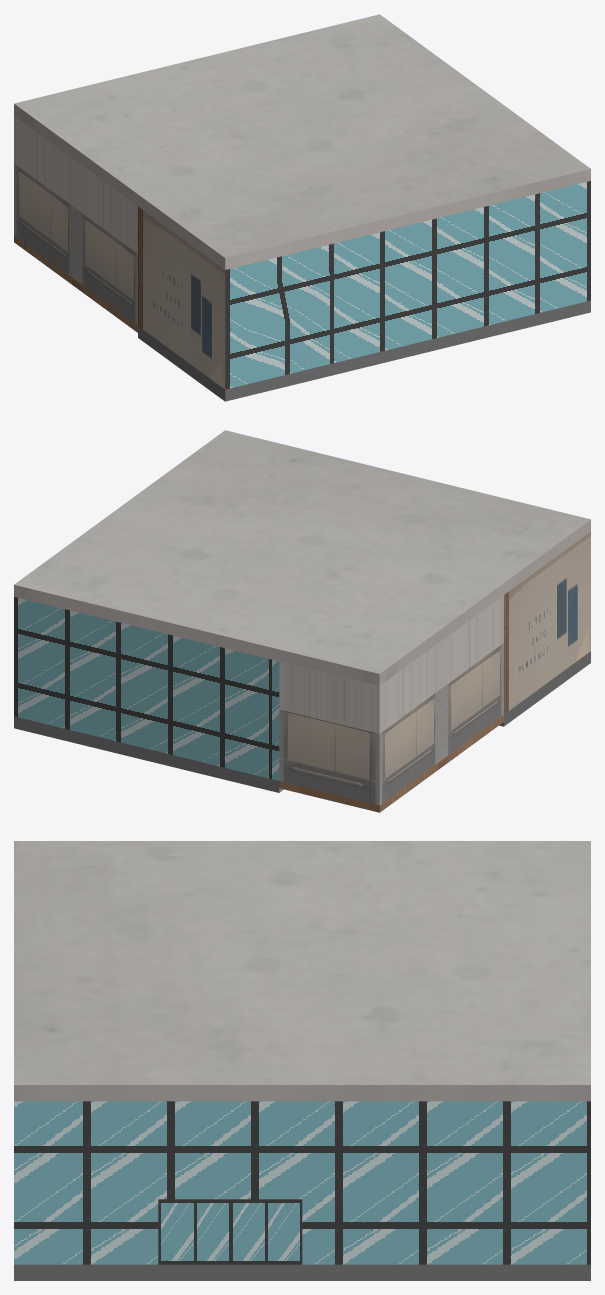
The model's file is OfficeLobby.glb.
3 views of the same model, one above another, from view 1: azimuth 30°, elevation 25°; view 2: azimuth 150°, elevation 25°; view 3: azimuth 270°, elevation 25° (orthographic). The views are drawn at different scales.
Visible parts, largest first — view 1: Ceiling-Lobby, Wall-Lobby, Floor-Lobby.004, Floor-Lobby.002, Floor-Lobby.003; view 2: Ceiling-Lobby, Wall-Lobby, Floor-Lobby.002, Floor-Lobby.004, Floor-Lobby.003; view 3: Ceiling-Lobby, Wall-Lobby, Floor-Lobby.003.
Boxes of the visible parts, x1,y1,x2,y2 form: Ceiling-Lobby: (14, 14, 590, 269); Wall-Lobby: (138, 181, 590, 389); Floor-Lobby.004: (72, 158, 137, 332); Floor-Lobby.002: (14, 116, 71, 284); Floor-Lobby.003: (138, 300, 590, 401); Ceiling-Lobby: (14, 430, 590, 685); Wall-Lobby: (14, 531, 590, 780); Floor-Lobby.002: (279, 643, 437, 812); Floor-Lobby.004: (438, 595, 503, 769); Floor-Lobby.003: (14, 651, 590, 792); Ceiling-Lobby: (14, 841, 590, 1101); Wall-Lobby: (14, 1101, 590, 1264); Floor-Lobby.003: (14, 1264, 590, 1280).
Size of the model in its own units: 16 by 6 by 16.
4 materials, 3 textured.
